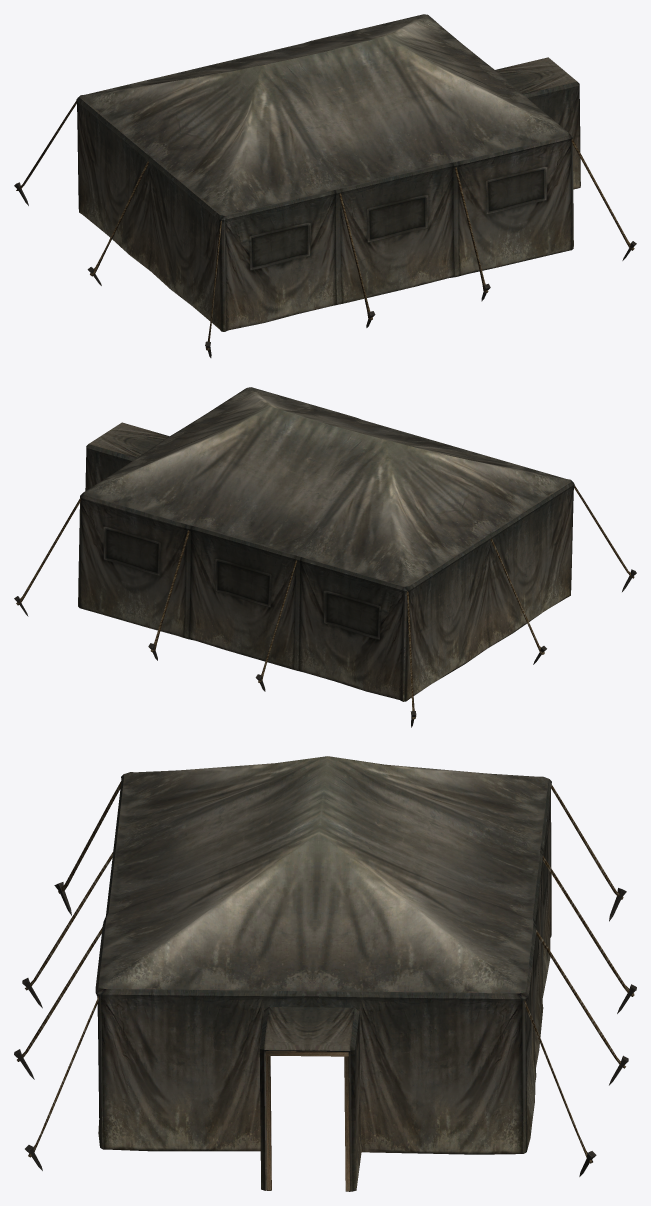
The model's file is barraca_militar.glb.
3 views of the same model, one above another, from view 1: azimuth 30°, elevation 25°; view 2: azimuth 150°, elevation 25°; view 3: azimuth 270°, elevation 25° (orthographic). The views are drawn at different scales.
Parts seen in each view (by area): view 1: Object_2; view 2: Object_2; view 3: Object_2.
Boxes of the visible parts, x1,y1,x2,y2 form: Object_2: (14,14,636,357); Object_2: (14,387,636,727); Object_2: (14,756,636,1191).
Bounding box in the file's own units: 474 × 185 × 404.
Materials: 1 (1 with a texture image).
